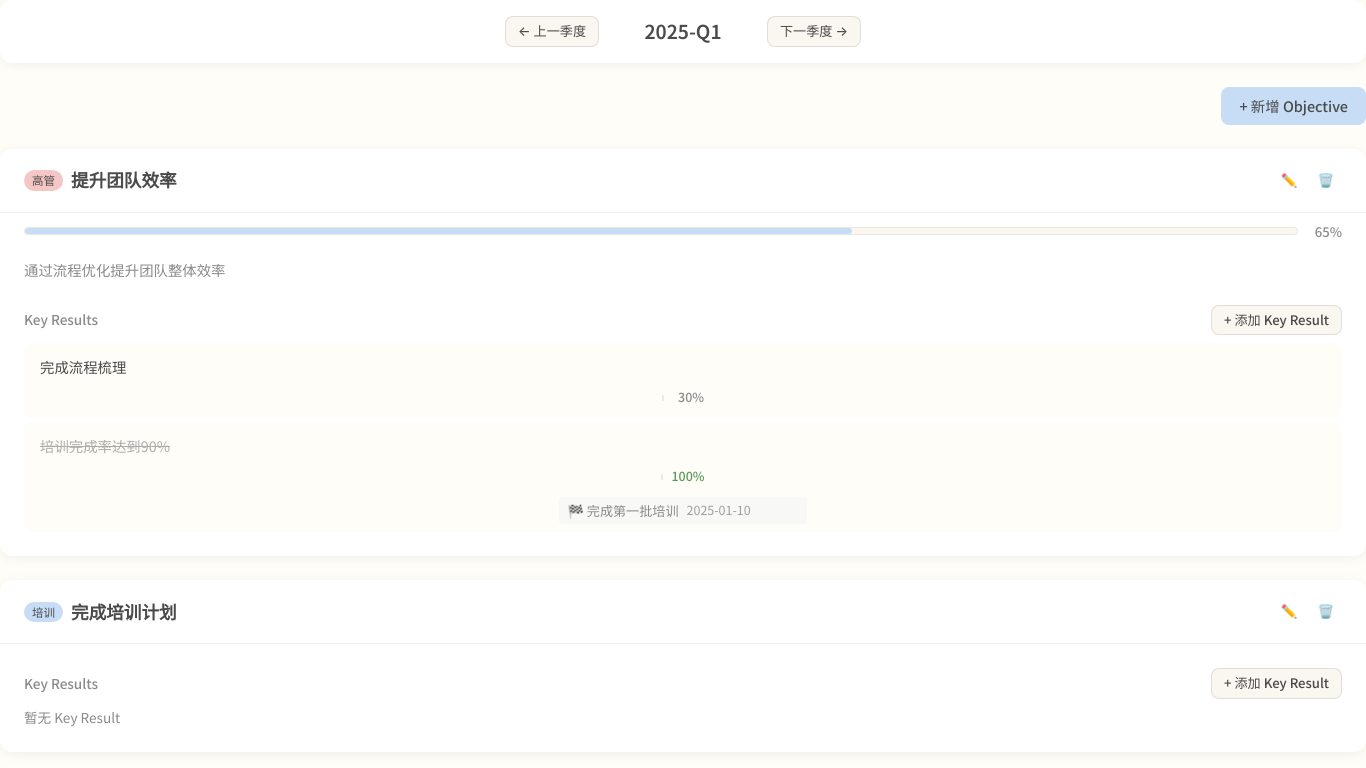
Test: OKRPage › shows validation error when title is empty on create
The width and height of the screenshot is (1366, 768).
Click the button "+ 新增 Objective" at point(1294, 106), box [1221,87,1365,125]
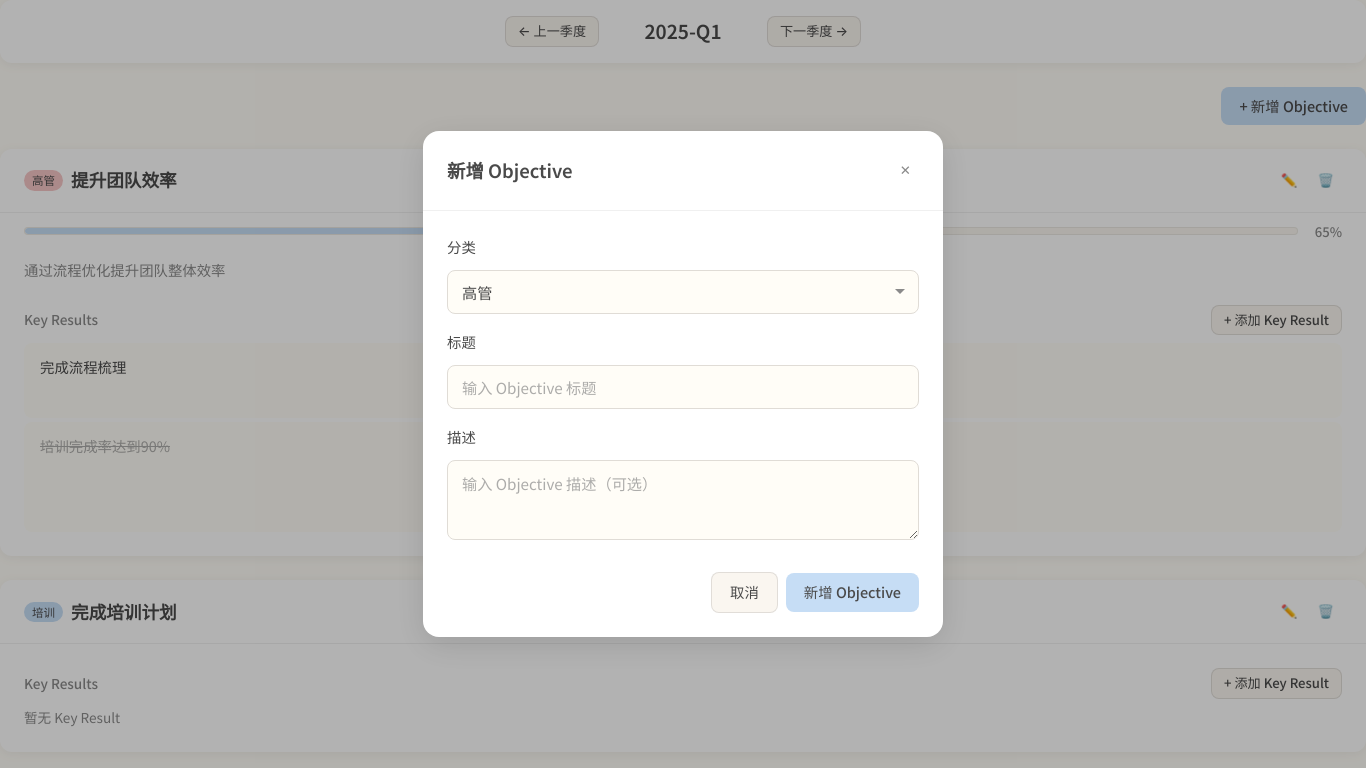
Check: the field with placeholder "输入 Objective 标题" is shown, box [447,365,919,409]
Click the button "新增 Objective" at point(852, 593), box [786,574,919,612]
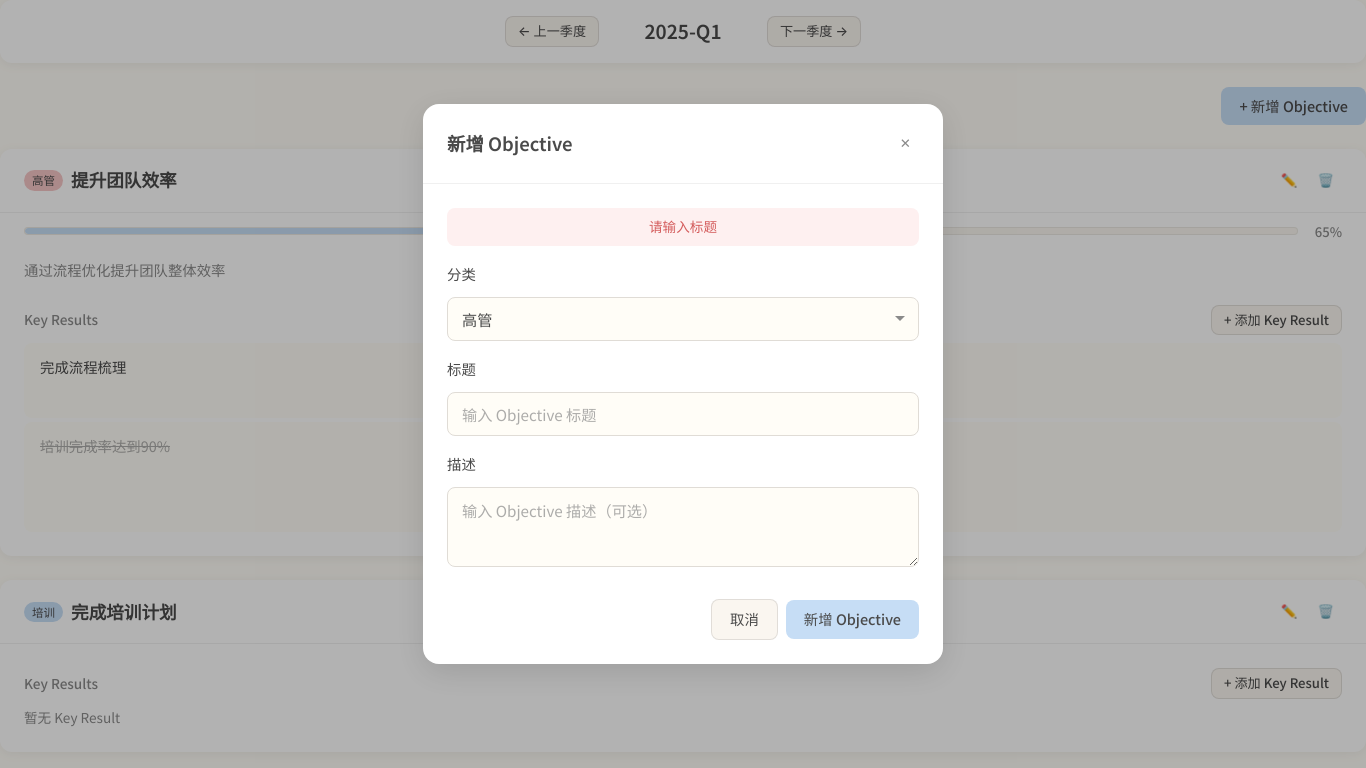
Check: the text "请输入标题" is shown, box [447,208,919,246]
